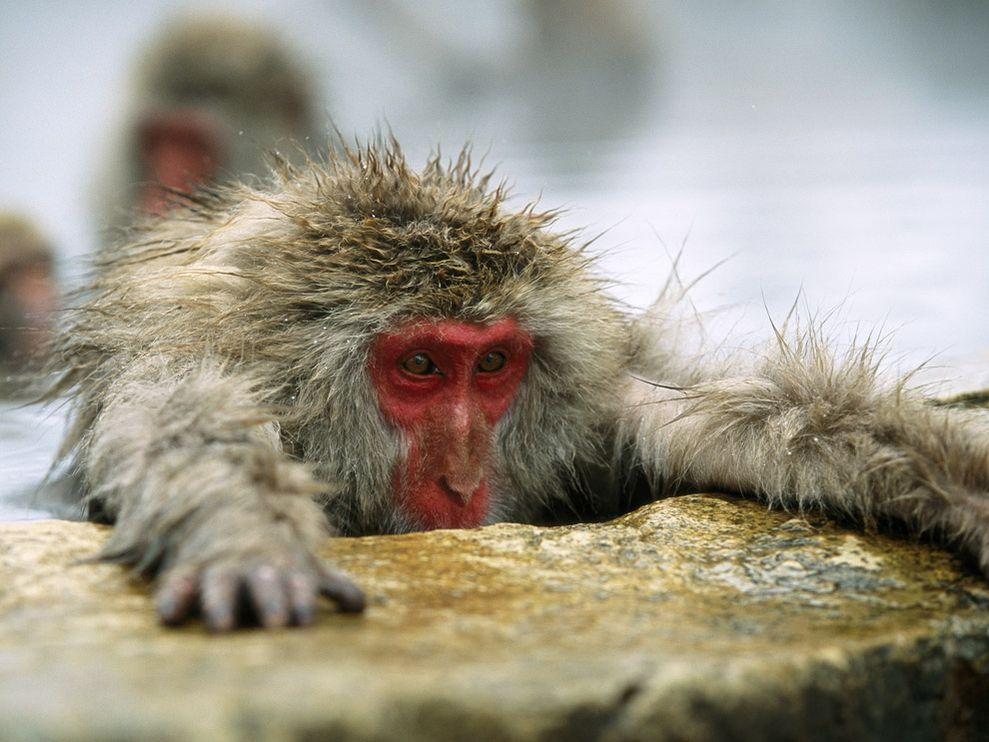monkey: (57, 149, 795, 538)
